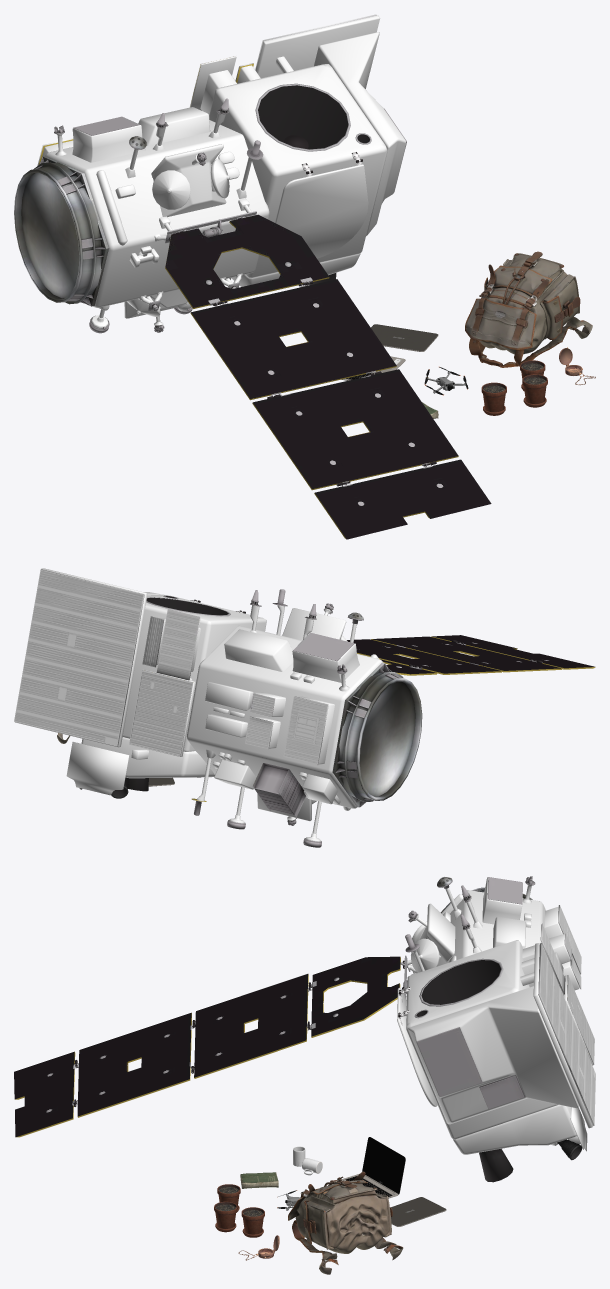
File: sceneExportCompressed.glb
3 renders of one model, top to bottom at view 1: azimuth 30°, elevation 25°; view 2: azimuth 150°, elevation 25°; view 3: azimuth 270°, elevation 25°, orthographic. The views are drawn at different scales.
Parts seen in each view (by area): view 1: solar_panels, Backpack, Terracotta_Dish_Plant_Pot_var2_0, Laptop 1; view 2: solar_panels; view 3: solar_panels, Backpack, Laptop 1, Terracotta_Dish_Plant_Pot_var2_0, Book.
Part boxes in pixels (bbox=[...]): solar_panels: bbox=[14, 14, 491, 539]; Backpack: bbox=[465, 251, 592, 367]; Terracotta_Dish_Plant_Pot_var2_0: bbox=[481, 360, 547, 415]; Laptop 1: bbox=[341, 324, 438, 380]; solar_panels: bbox=[14, 568, 595, 847]; solar_panels: bbox=[14, 876, 595, 1182]; Backpack: bbox=[288, 1171, 403, 1274]; Laptop 1: bbox=[332, 1137, 446, 1226]; Terracotta_Dish_Plant_Pot_var2_0: bbox=[214, 1184, 264, 1237]; Book: bbox=[240, 1172, 278, 1188].
Bounding box in the file's own units: 3.32 × 1.84 × 4.02.
14 materials, 12 textured.
